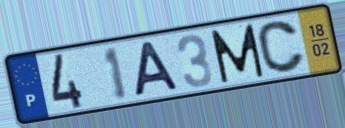1: (101, 44, 128, 103)
3: (176, 33, 214, 88)
4: (50, 52, 86, 112)
A: (131, 39, 183, 99)
C: (255, 19, 307, 76)
M: (208, 22, 267, 86)
